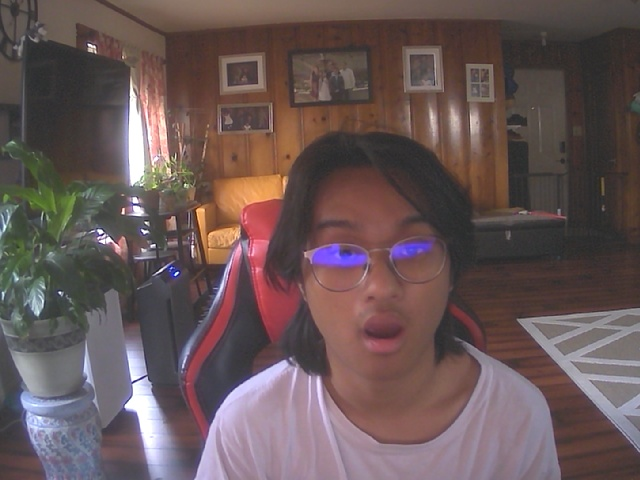fear: (290, 147, 462, 383)
